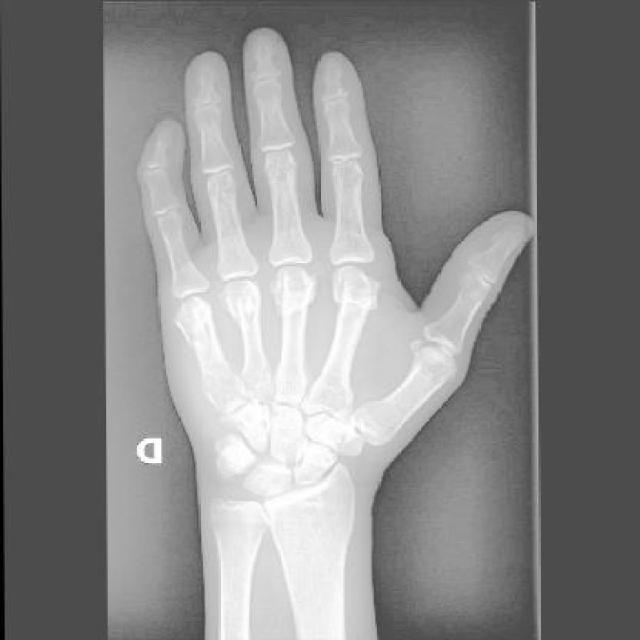Fracture: (272, 265, 319, 318), (337, 269, 384, 311), (176, 297, 216, 346), (227, 280, 267, 322)
